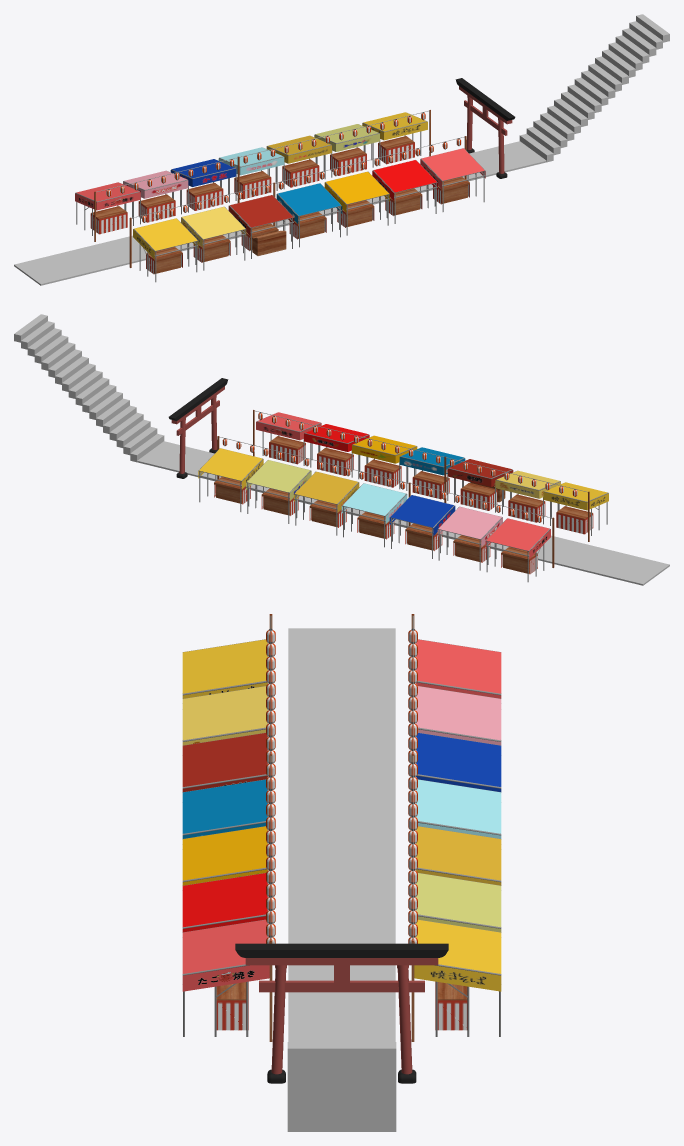
The model's file is stage.fbx.
The picture shows the model from 3 angles, top to bottom: view 1: azimuth 30°, elevation 25°; view 2: azimuth 150°, elevation 25°; view 3: azimuth 270°, elevation 25°; orthographic projection. The views are drawn at different scales.
Parts seen in each view (by area): view 1: pPlane2 (×14), pCube4, pPlane1 (×7), dai (×6), maku (×7), shatekidai, pCube25, pCube5; view 2: pPlane2 (×14), pCube4, dai (×7), pPlane1 (×7), maku (×7), pCube25, pCube5; view 3: pPlane2 (×14), pCube4, pCube25, maku (×2), pCube22, pCube23, pPlane1 (×2), pCube24, pCylinder17, pCylinder18.
Boxes of the visible parts, x1,y1,x2,y2 form: pPlane2 (×14): (76,112,484,250); pCube4: (14,141,546,285); pPlane1 (×7): (90,142,414,234); dai (×6): (146,177,469,273); maku (×7): (75,121,427,210); shatekidai: (252,230,286,255); pCube25: (455,78,515,120); pCube5: (519,134,553,162); pPlane2 (×14): (199,412,607,550); pCube4: (137,441,669,585); dai (×7): (214,477,537,573); pPlane1 (×7): (269,442,593,534); maku (×7): (256,421,608,510); pCube25: (168,378,228,420); pCube5: (130,434,164,462); pPlane2 (×14): (182,639,501,973); pCube4: (288,628,395,1041); pCube25: (235,943,448,957); maku (×2): (182,965,501,991); pCube22: (287,1042,396,1062); pCube23: (259,965,424,992); pPlane1 (×2): (216,982,467,1030); pCube24: (245,958,438,965); pCylinder17: (271,965,286,1074); pCylinder18: (397,965,412,1074).
Size of the model in its own units: 91.99 by 13.82 by 20.2.
